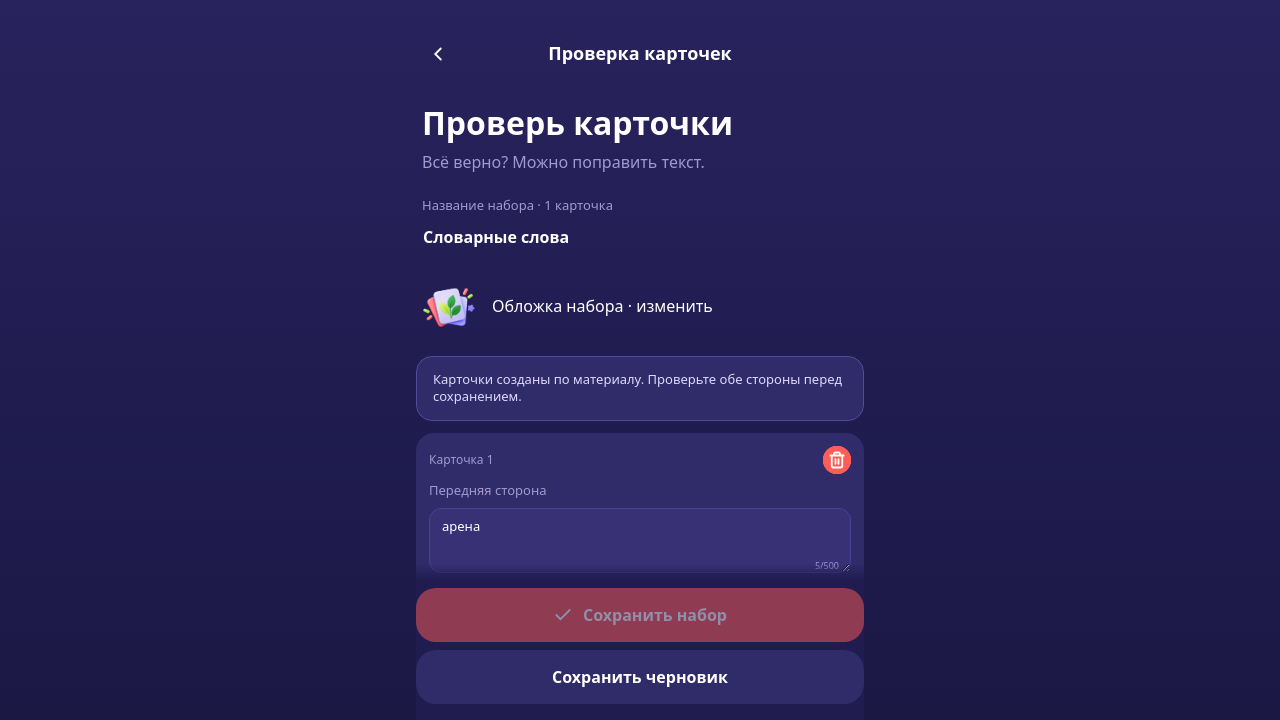
Scenario: blocks saving an old self-copy draft until its front becomes recallable
Expected: the button "Сохранить набор" is disabled, x1=416 y1=588 x2=864 y2=642
Replace the text in the text box labelled "Передняя сторона" with "ар_на": (640, 541) x1=429 y1=508 x2=851 y2=573
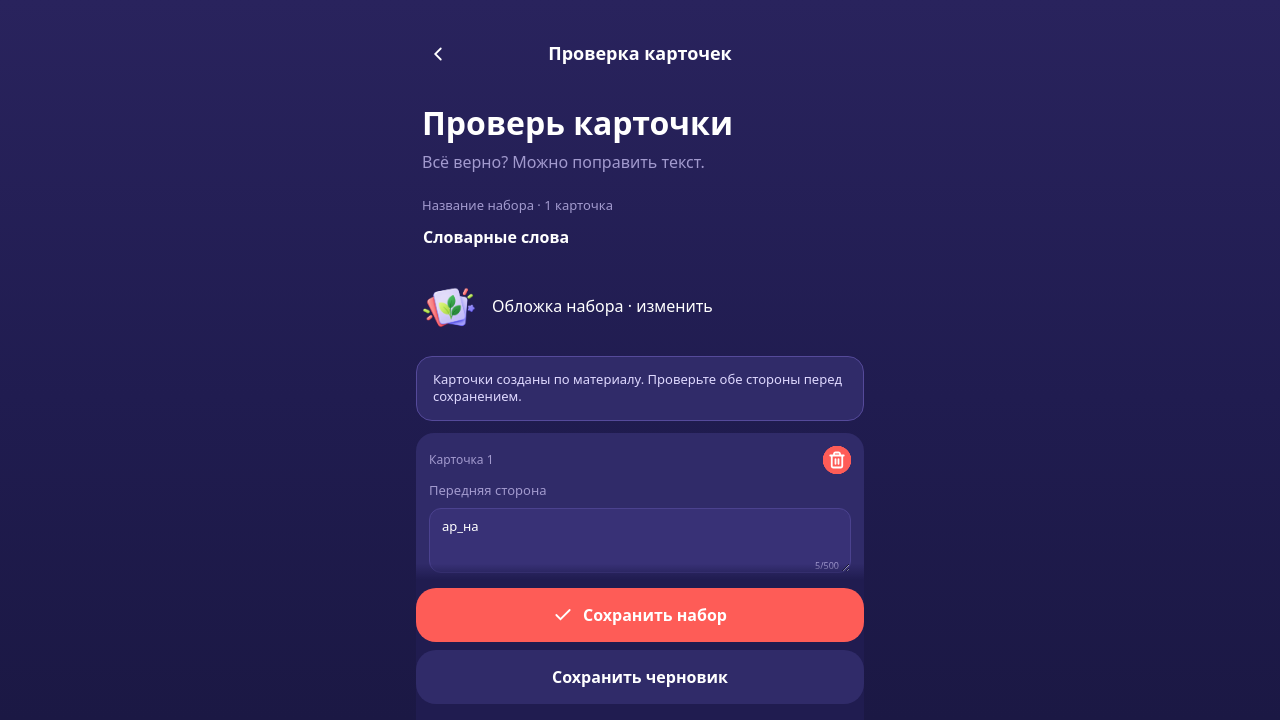
Expected: the button "Сохранить набор" is enabled, x1=416 y1=588 x2=864 y2=642
